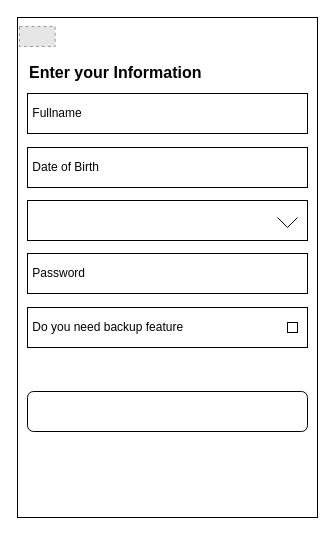
This 335x535 diagram has some shape labels left out. Grey dashed boxes stand in for pictures. Each missing label, with the box of its shape:
Gender: (26, 200, 308, 240)
Signup: (26, 390, 308, 432)
